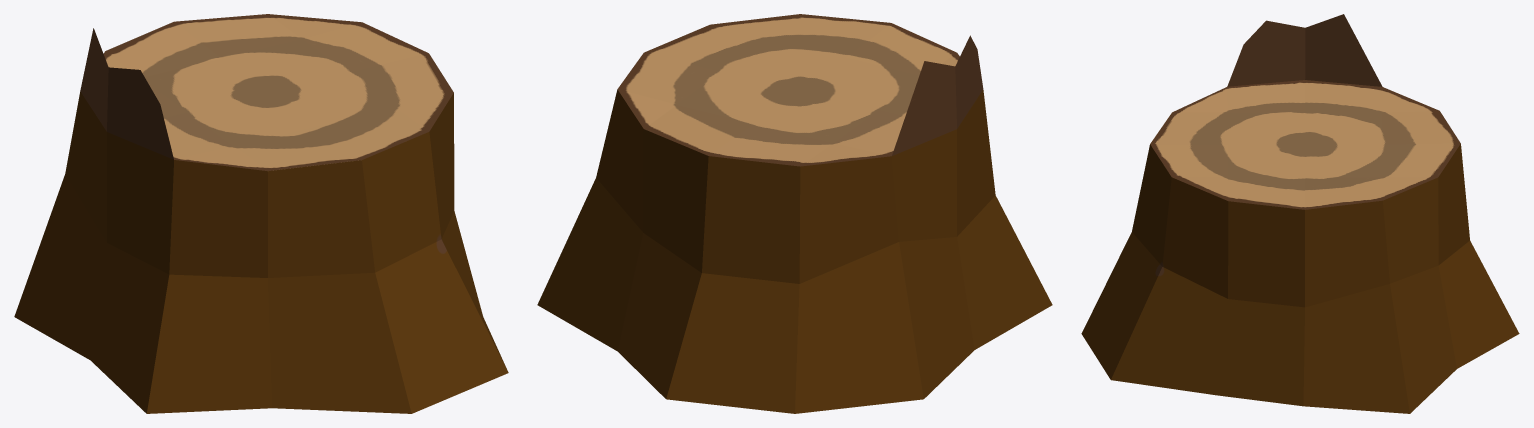
The model's file is treestamp.fbx.
3 views of the same model, side by side, from view 1: azimuth 30°, elevation 25°; view 2: azimuth 150°, elevation 25°; view 3: azimuth 270°, elevation 25° (orthographic). The views are drawn at different scales.
Visible parts, largest first — view 1: Circle; view 2: Circle; view 3: Circle.
Part boxes in pixels (left/top/right/bottom): Circle: left=14, top=14, right=508, bottom=413; Circle: left=537, top=14, right=1052, bottom=413; Circle: left=1081, top=14, right=1519, bottom=413.
Size of the model in its own units: 247 by 183 by 285.
2 materials, 2 textured.
